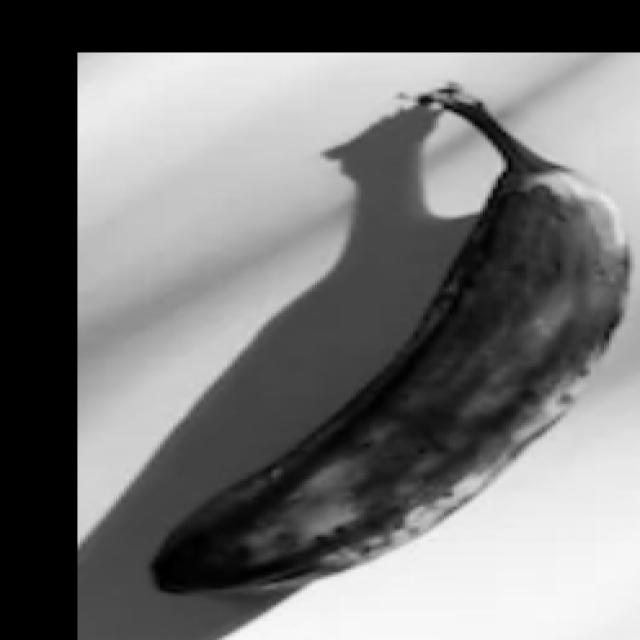Rotten: (133, 77, 640, 612)
